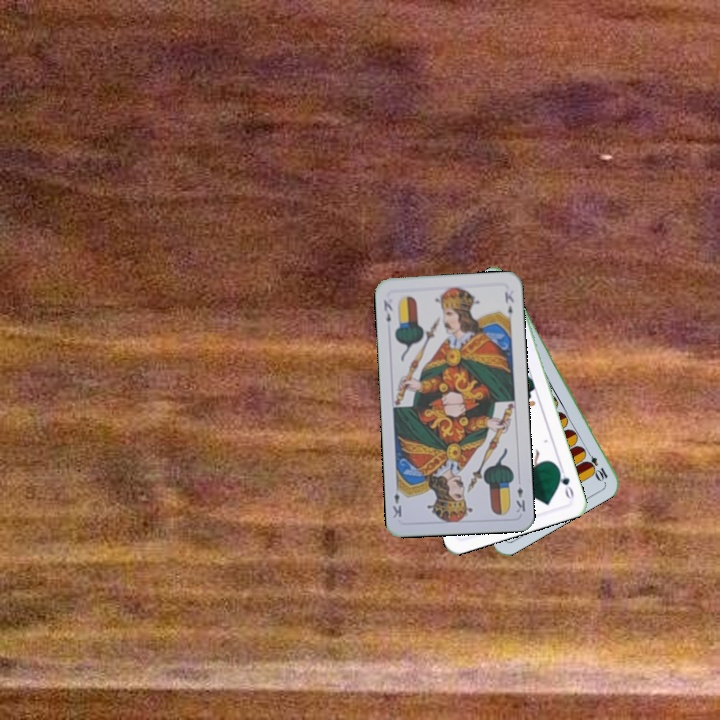E10: (581, 446, 610, 484)
EK: (512, 483, 528, 515), (379, 296, 395, 325)
GO: (553, 462, 576, 501)
